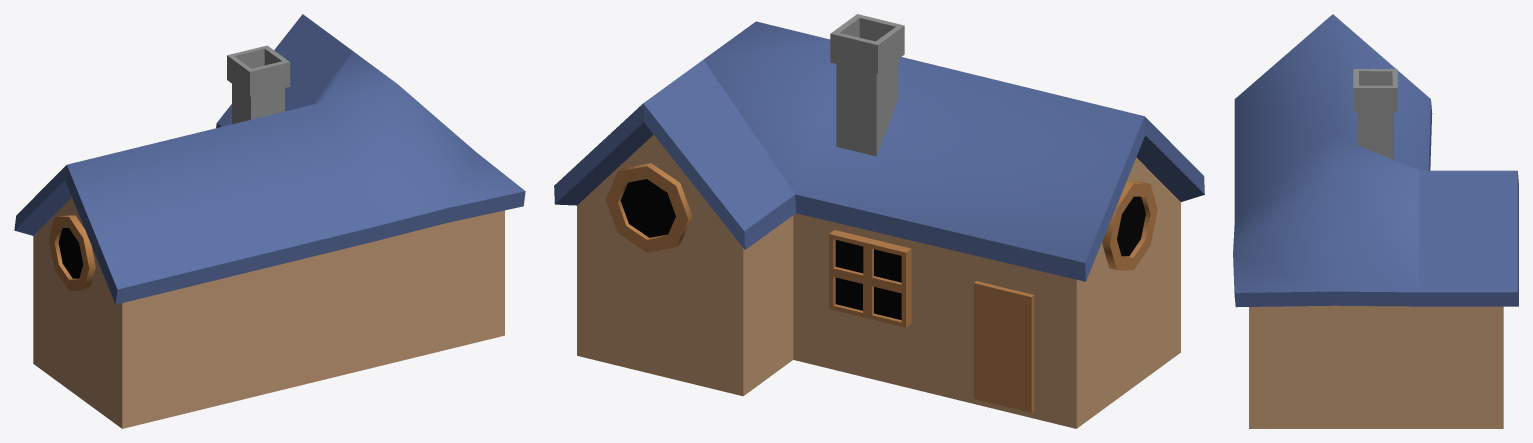
The model's file is EL_House.FBX.
3 renders of one model, left to right at view 1: azimuth 30°, elevation 25°; view 2: azimuth 150°, elevation 25°; view 3: azimuth 270°, elevation 25°, orthographic. The views are drawn at different scales.
Parts seen in each view (by area): view 1: Box001; view 2: Box001; view 3: Box001.
Part boxes in pixels (x1,y1,x2,y2): Box001: (14,14,525,428); Box001: (554,14,1204,428); Box001: (1233,14,1518,428).
Bounding box in the file's own units: 6.95 × 4.43 × 4.33.
